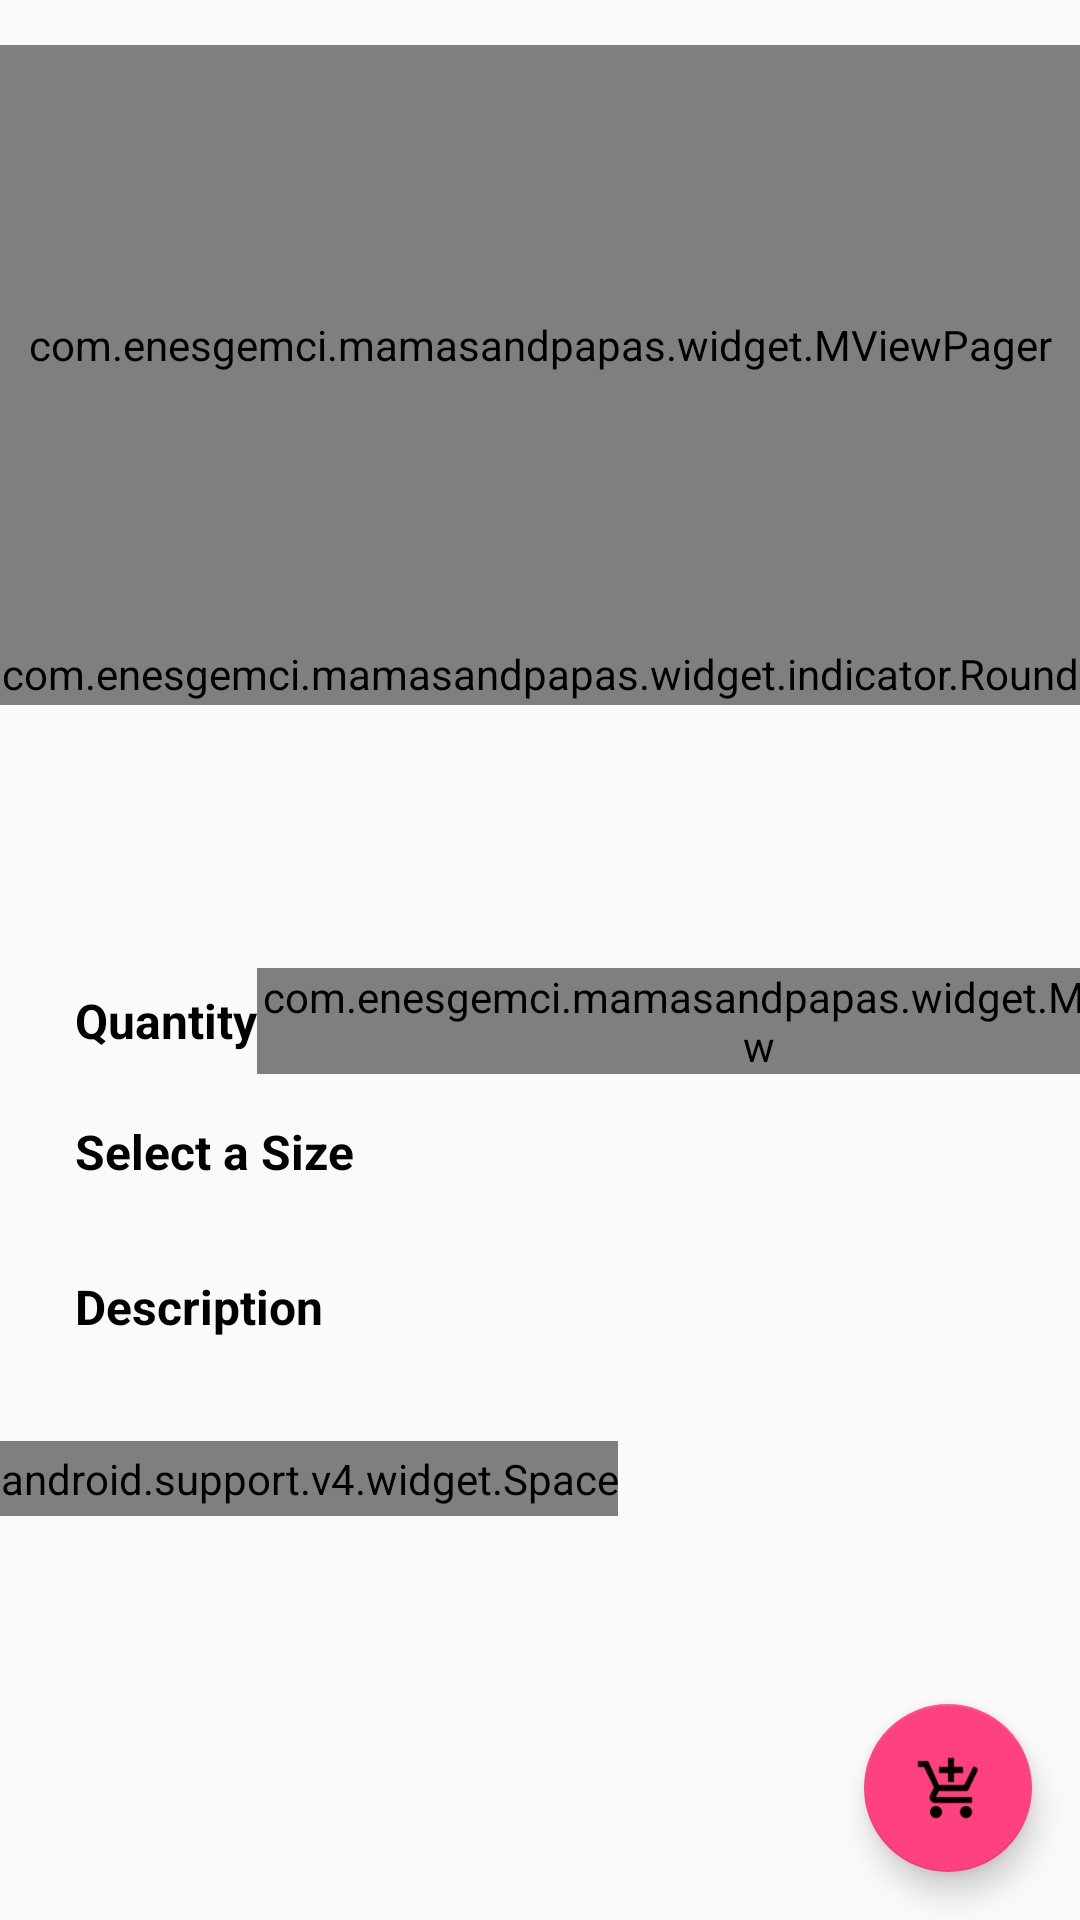

Point at icon controls on the screen. Image size 1080 x 1920, points as (x=x, y=y).
add to bag: (x=948, y=1788)
